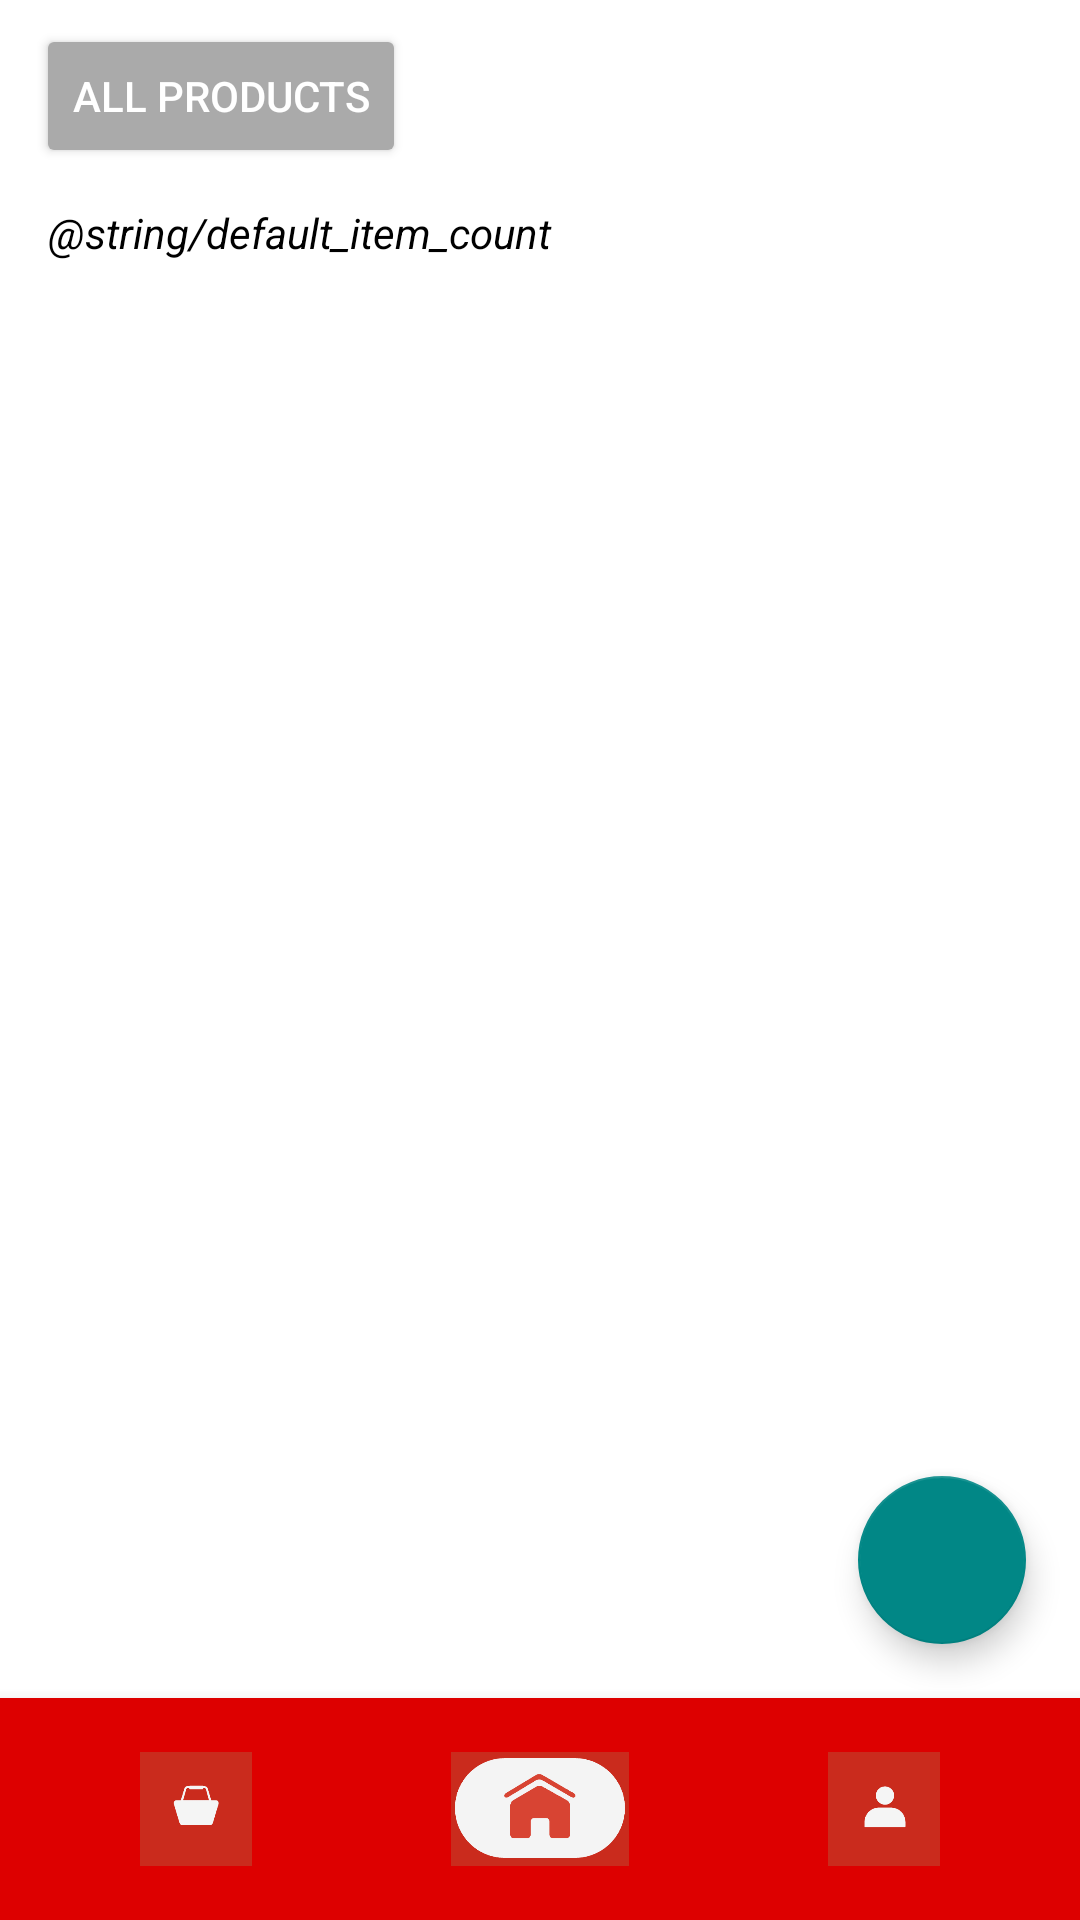

Point at icon controls on the screen. Image size 1080px×1920px, points as (x=x, y=y).
Home: (x=540, y=1809)
